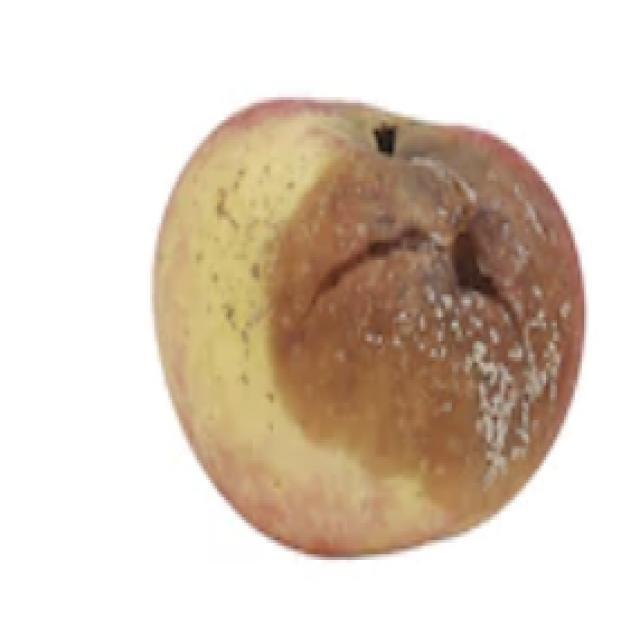Rotten: (174, 106, 588, 546)
